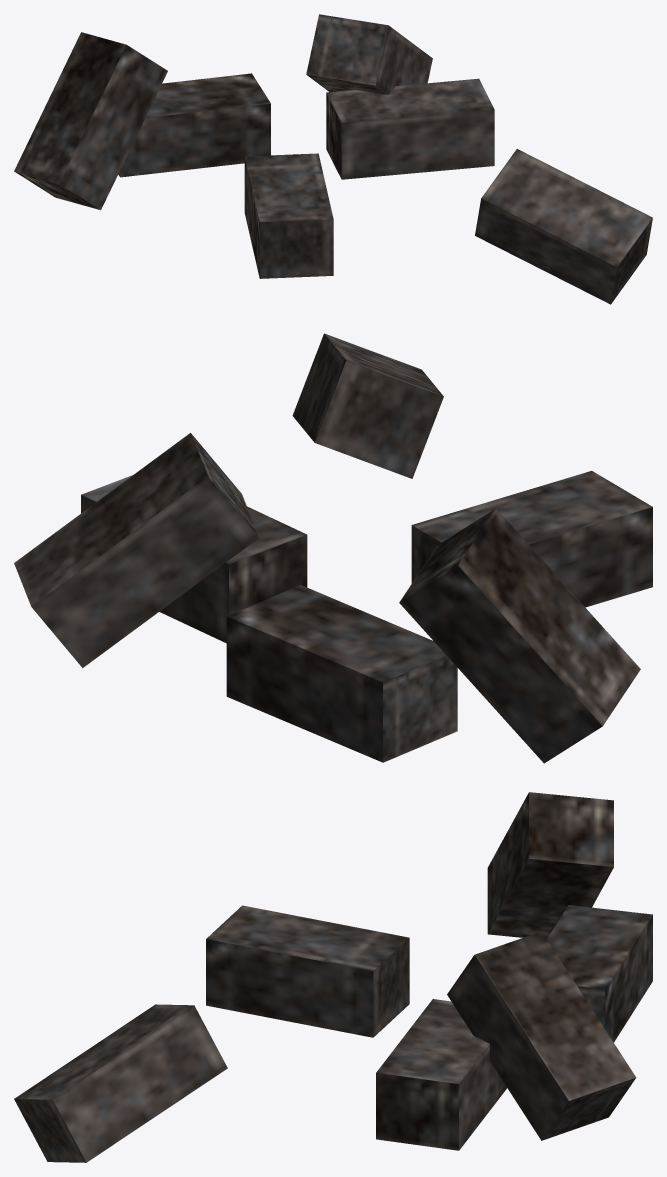
The picture shows the model from 3 angles, top to bottom: view 1: azimuth 30°, elevation 25°; view 2: azimuth 150°, elevation 25°; view 3: azimuth 270°, elevation 25°; orthographic projection. The views are drawn at different scales.
Parts seen in each view (by area): view 1: SMDImport; view 2: SMDImport; view 3: SMDImport.
Part boxes in pixels (x1,y1,x2,y2): SMDImport: (14, 14, 652, 304); SMDImport: (14, 333, 652, 763); SMDImport: (14, 792, 652, 1162).
Bounding box in the file's own units: 92.7 × 37.08 × 102.
